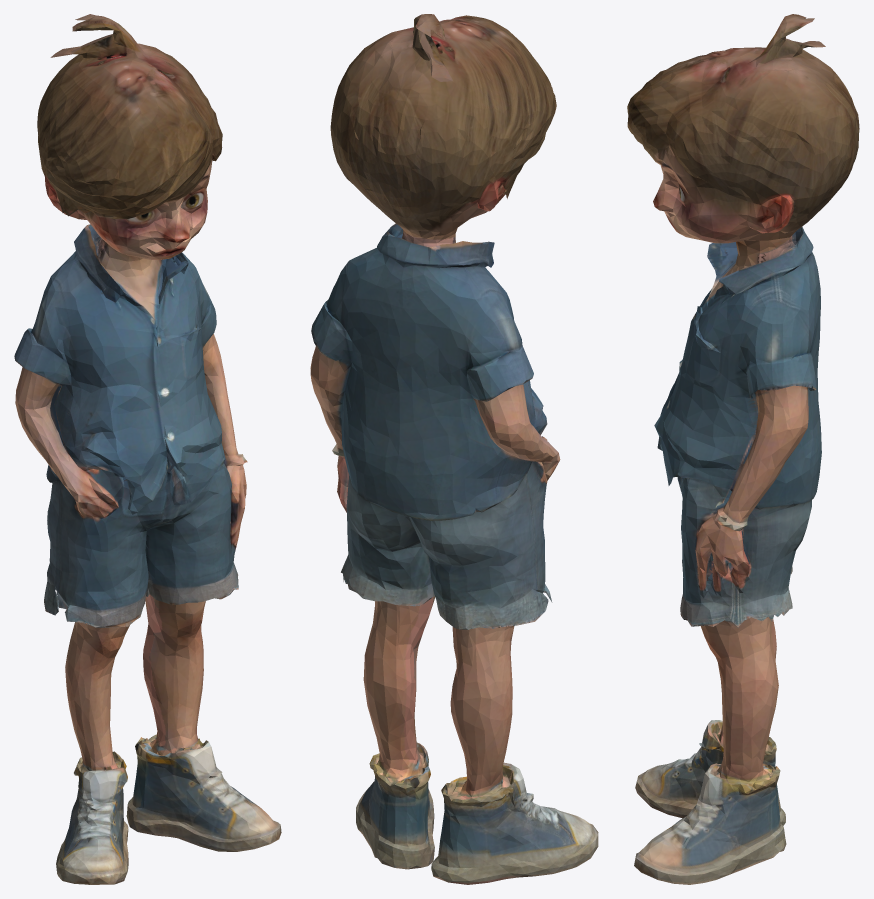
Rendered from Generate_3D_children__0512052004_texture.fbx.
3 renders of one model, left to right at view 1: azimuth 30°, elevation 25°; view 2: azimuth 150°, elevation 25°; view 3: azimuth 270°, elevation 25°, orthographic. The views are drawn at different scales.
Visible parts, largest first — view 1: temp; view 2: temp; view 3: temp.
Boxes of the visible parts, x1=… form: temp: x1=14, y1=14, x2=281, y2=884; temp: x1=310, y1=14, x2=598, y2=884; temp: x1=627, y1=14, x2=859, y2=884.
Bounding box in the file's own units: 54.95 × 200 × 51.65.
Materials: 1 (1 with a texture image).
